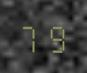nine: (43, 20, 66, 53)
seven: (19, 20, 42, 53)
